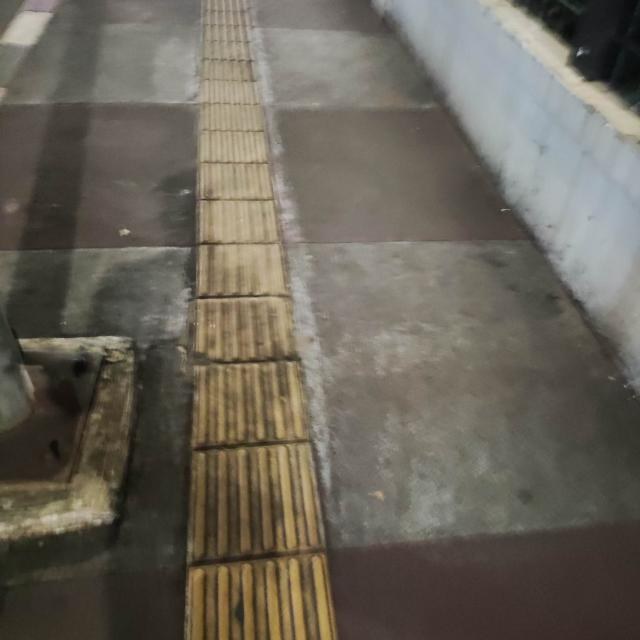lurus: (140, 0, 347, 640)
